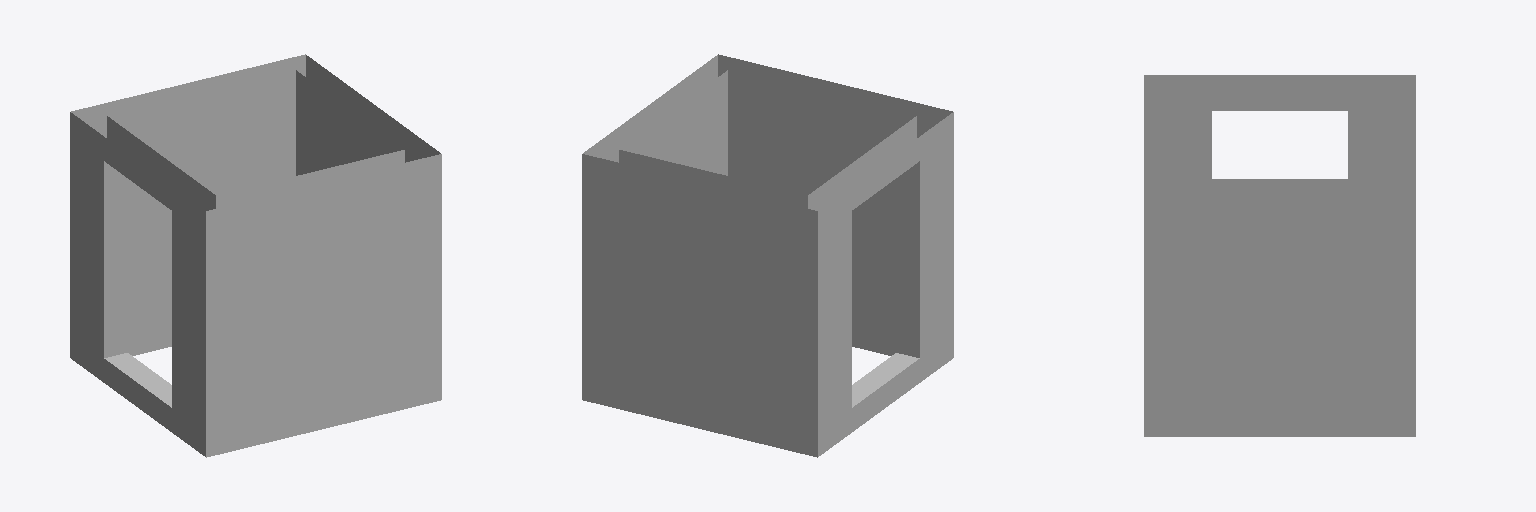
Rendered from worldtile33.obj.
The picture shows the model from 3 angles: view 1: azimuth 30°, elevation 25°; view 2: azimuth 150°, elevation 25°; view 3: azimuth 270°, elevation 25°; orthographic projection.
Parts seen in each view (by area): view 1: objRegroup01; view 2: objRegroup01; view 3: objRegroup01.
Part boxes in pixels (bbox=[...]): objRegroup01: bbox=[70, 54, 441, 457]; objRegroup01: bbox=[582, 54, 953, 457]; objRegroup01: bbox=[1144, 75, 1415, 436].
Bounding box in the file's own units: 10 × 10 × 10.